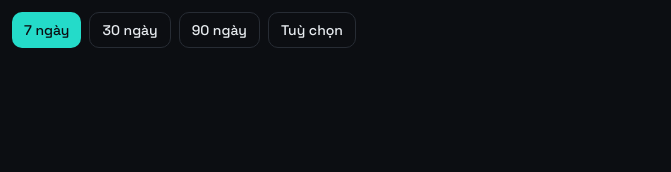
Scenario: AnalyticsDateRangePicker › custom date inputs reflect current value
Click the button "Tuỳ chọn": x=312, y=30 [268, 12, 356, 48]
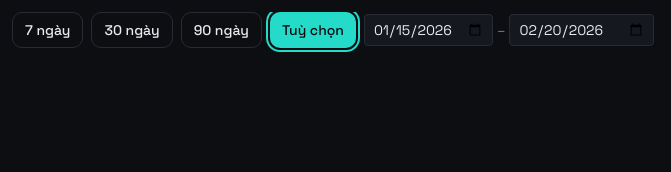
Check: the date field named "Ngày bắt đầu" holds "2026-01-15", box [364, 14, 493, 46]
Check: the date field named "Ngày kết thúc" holds "2026-02-20", box [510, 14, 654, 46]
